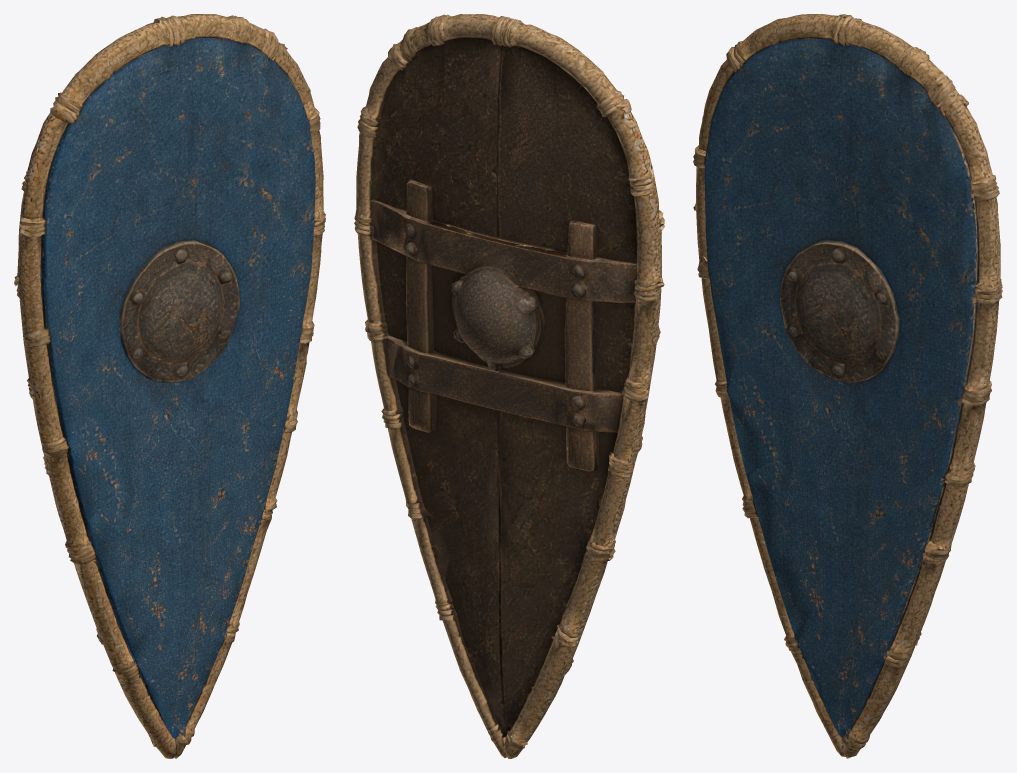
The model's file is kite_shield.glb.
3 views of the same model, side by side, from view 1: azimuth 30°, elevation 25°; view 2: azimuth 150°, elevation 25°; view 3: azimuth 330°, elevation 25° (orthographic).
Parts seen in each view (by area): view 1: medieval-kite-shield; view 2: medieval-kite-shield; view 3: medieval-kite-shield.
Boxes of the visible parts, x1,y1,x2,y2 form: medieval-kite-shield: (14,14,325,758); medieval-kite-shield: (354,14,664,758); medieval-kite-shield: (693,14,1002,758).
Bounding box in the file's own units: 0.4359 × 1 × 0.1028.
Materials: 1 (1 with a texture image).
